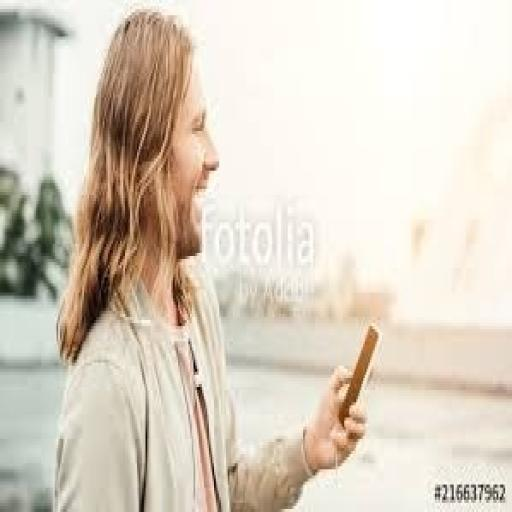texting: (50, 6, 370, 509)
